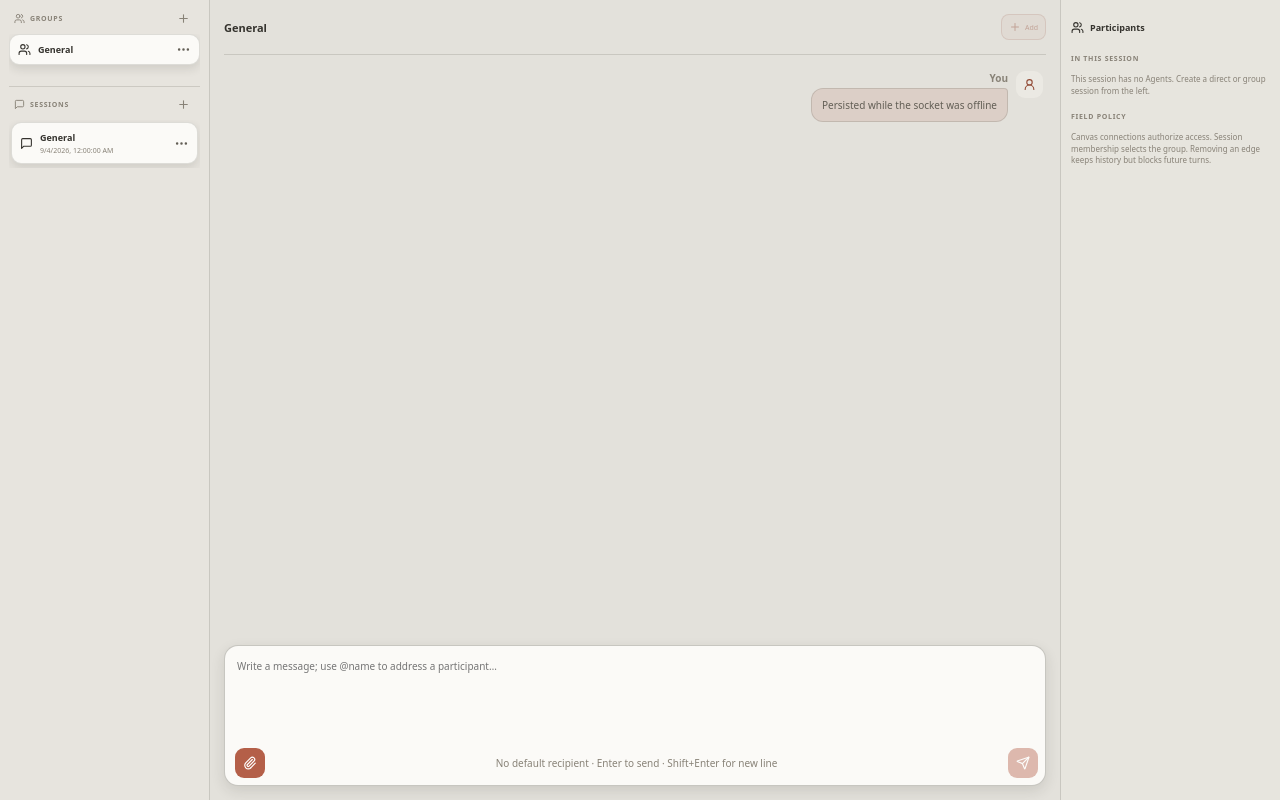
Test case: ConversationWorkspace snapshots › keeps the text with an unconfirmed status when sending fails
Expected: the text "Persisted while the socket was offline" is shown, [811, 88, 1008, 122]
Type "Keep my text" into the text box named "Conversation message". click: (635, 694)
box: [225, 646, 1045, 742]
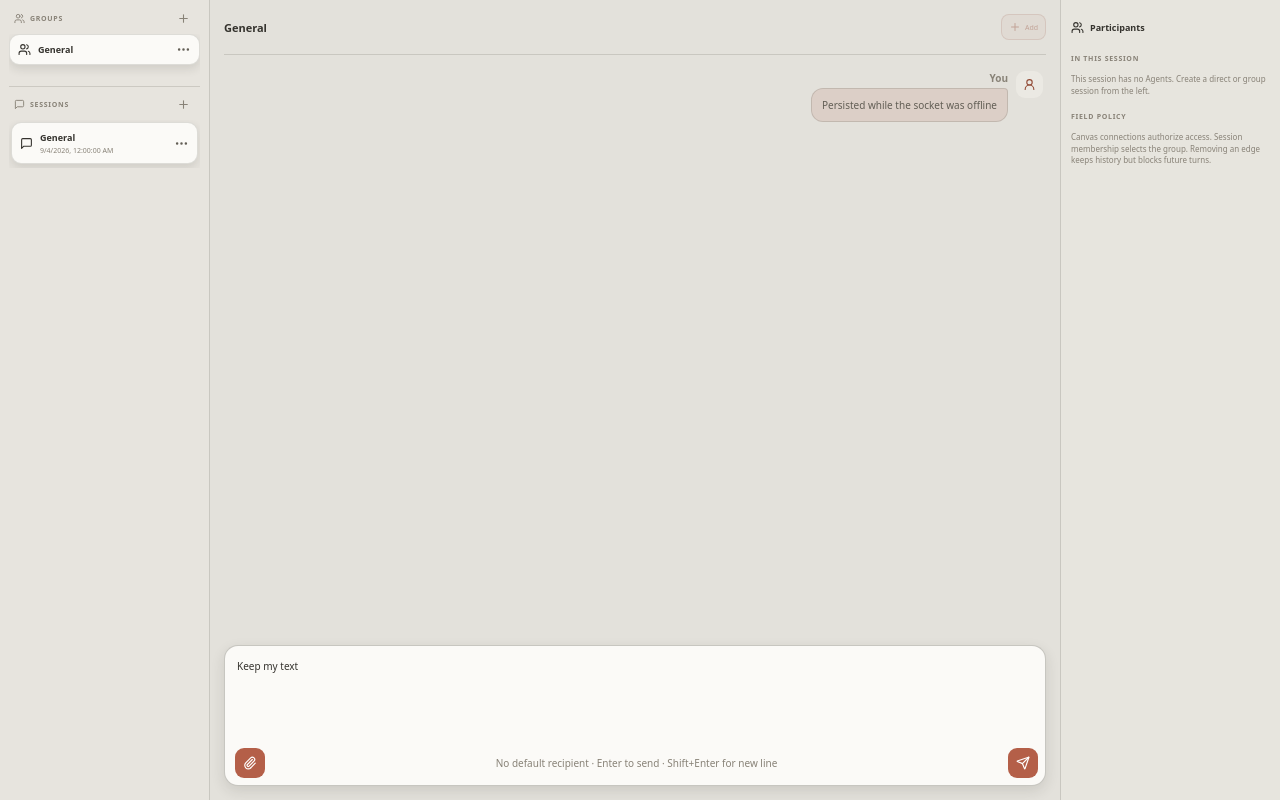
Click the button named "Send message". click: (1023, 763)
box: [1008, 748, 1038, 778]
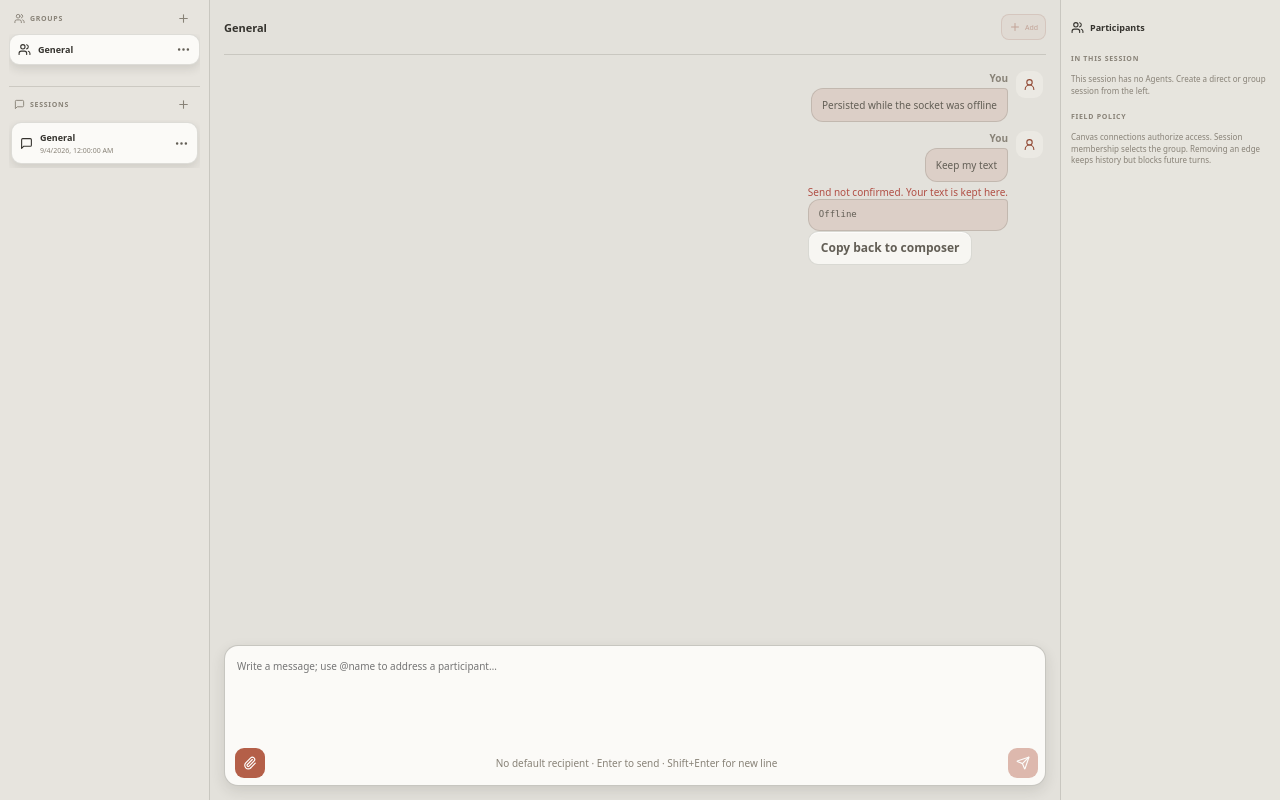
Result: the text "Send not confirmed. Your text is kept here." is shown at [808, 185, 1008, 199]
Result: the text "Keep my text" is shown at [925, 148, 1008, 182]
